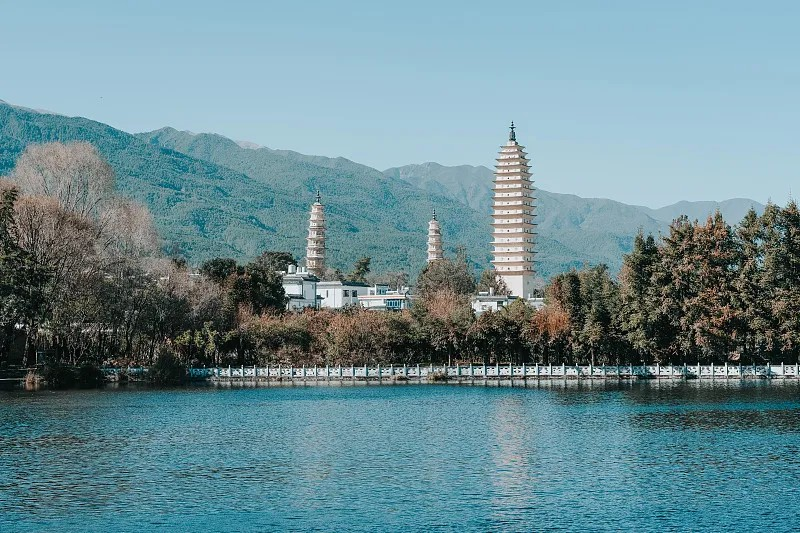ThreePagoda: (489, 121, 538, 298)
